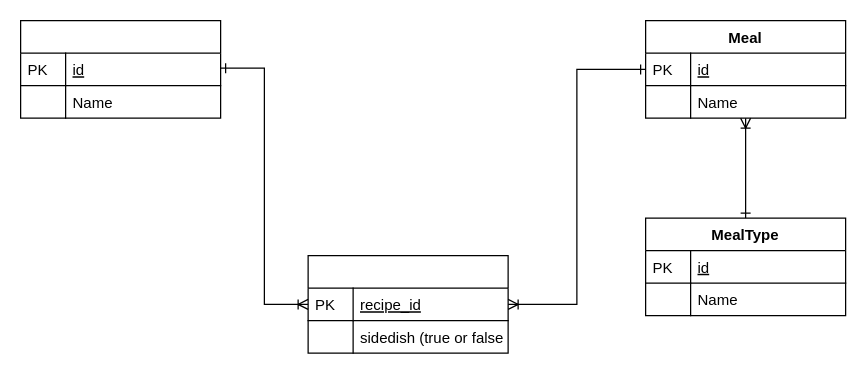
The diagram is 866 pixels wide and 374 high, and some of its shapes have lost their labels. Here are the shapes that lost their labels. From the top down, the box of each, then its label:
(19, 19, 221, 118): Recipe
(307, 254, 508, 353): Meal_Row
